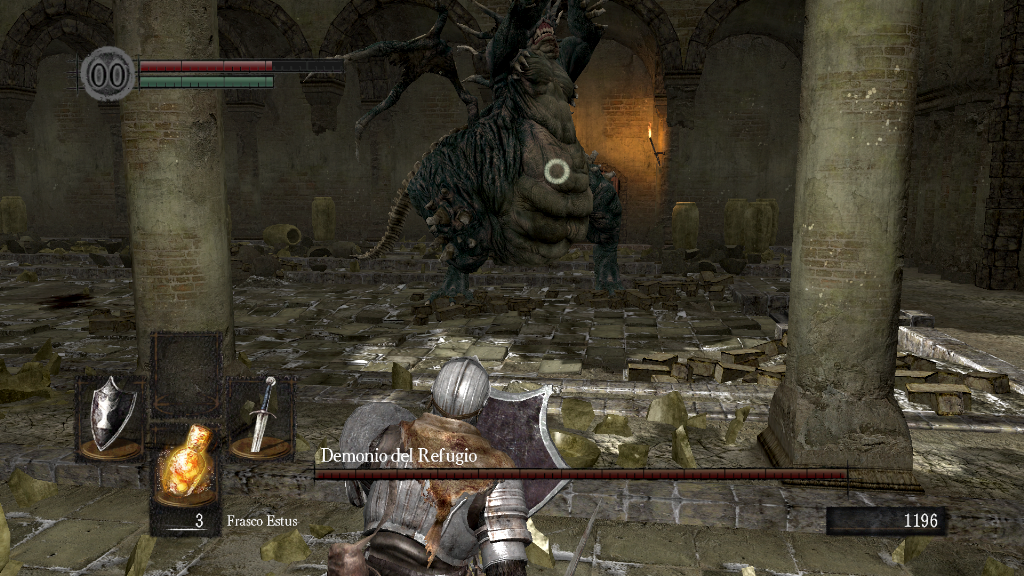asylumDemon: (352, 1, 625, 300)
bossHP: (314, 469, 847, 479)
health: (138, 58, 343, 71)
humanity: (80, 45, 136, 102)
player: (338, 355, 574, 576)
souls: (825, 506, 945, 536)
stamina: (138, 74, 274, 88)
